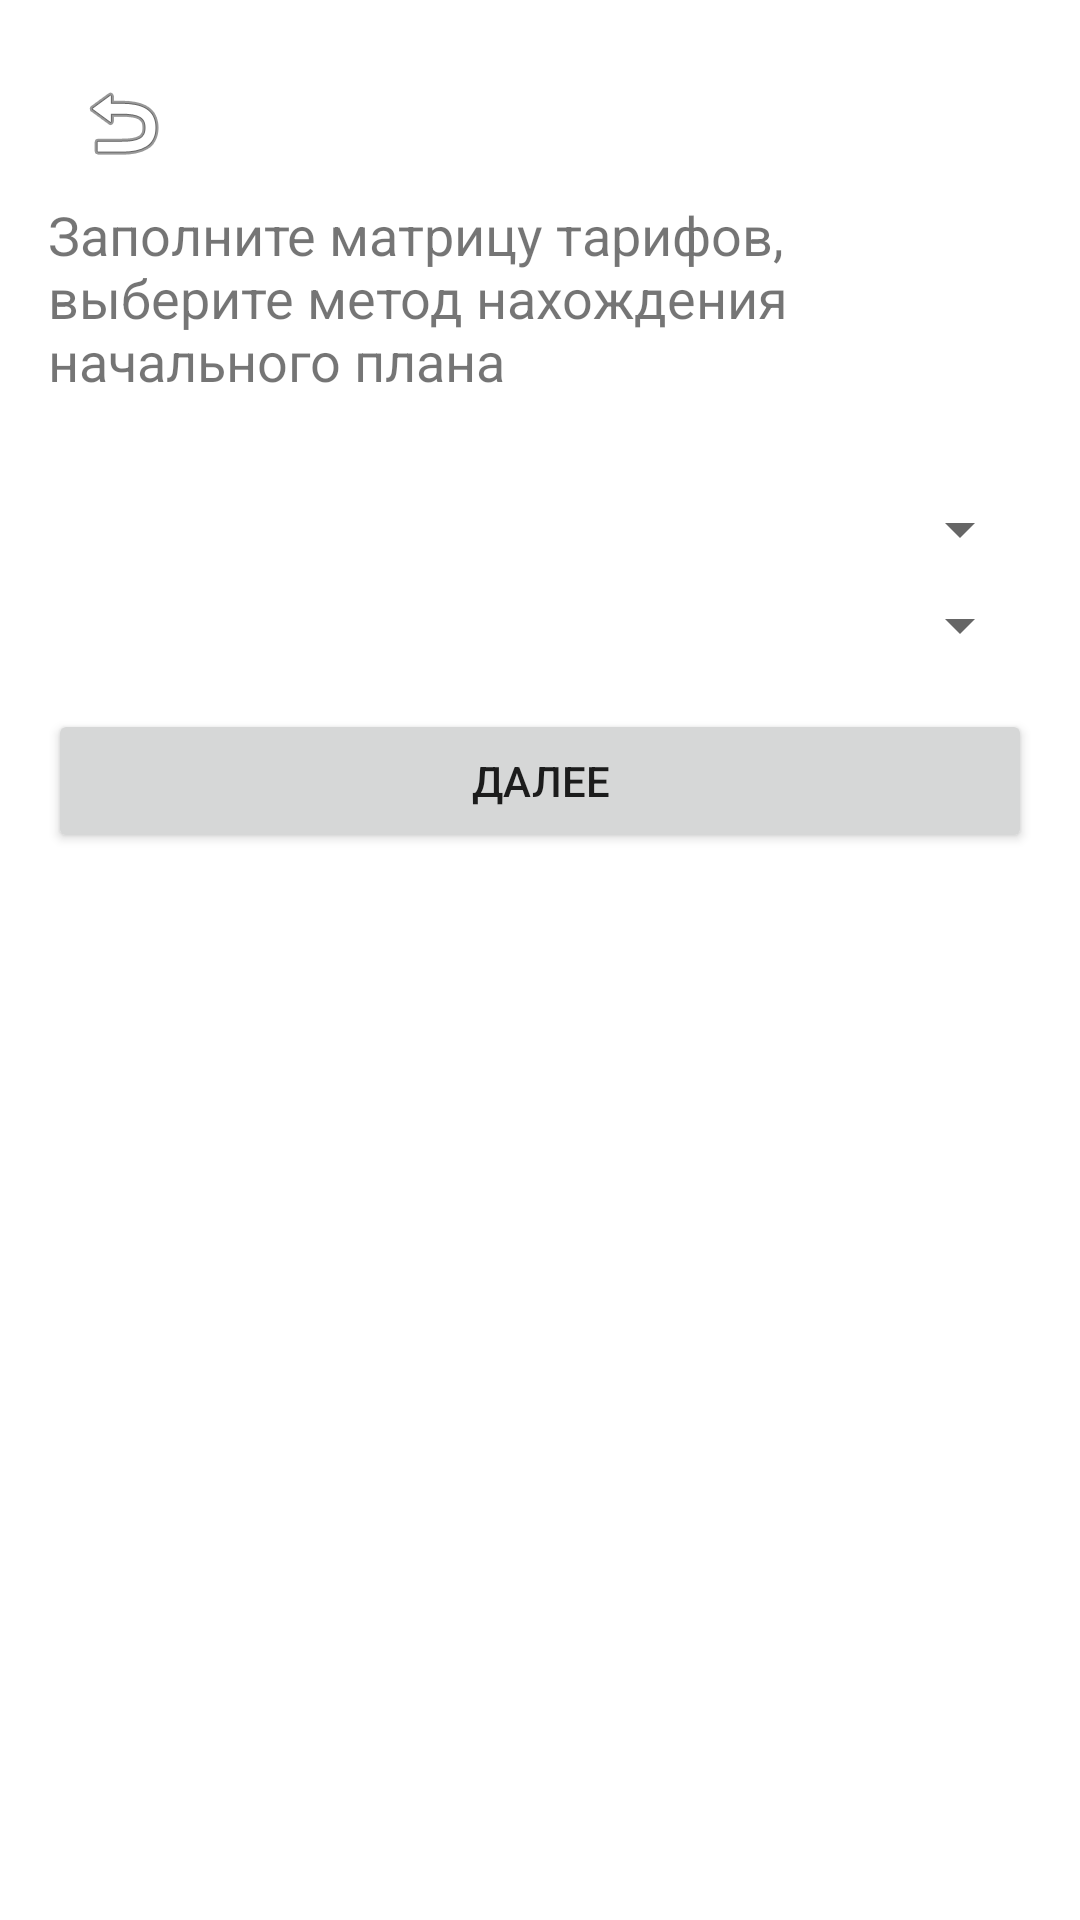

Icons on this 1080x1920 Android screen, each with its box as (x1, y1, x2, y2):
revert: (90, 92, 159, 155)
